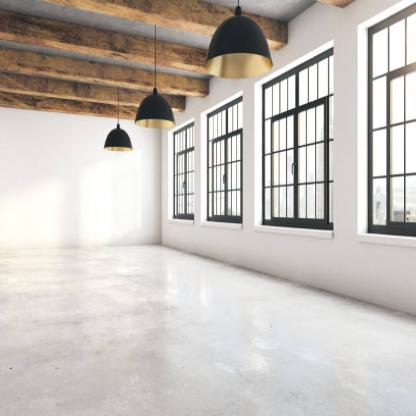Window: (260, 48, 333, 231), (206, 95, 242, 221), (171, 124, 193, 219)
